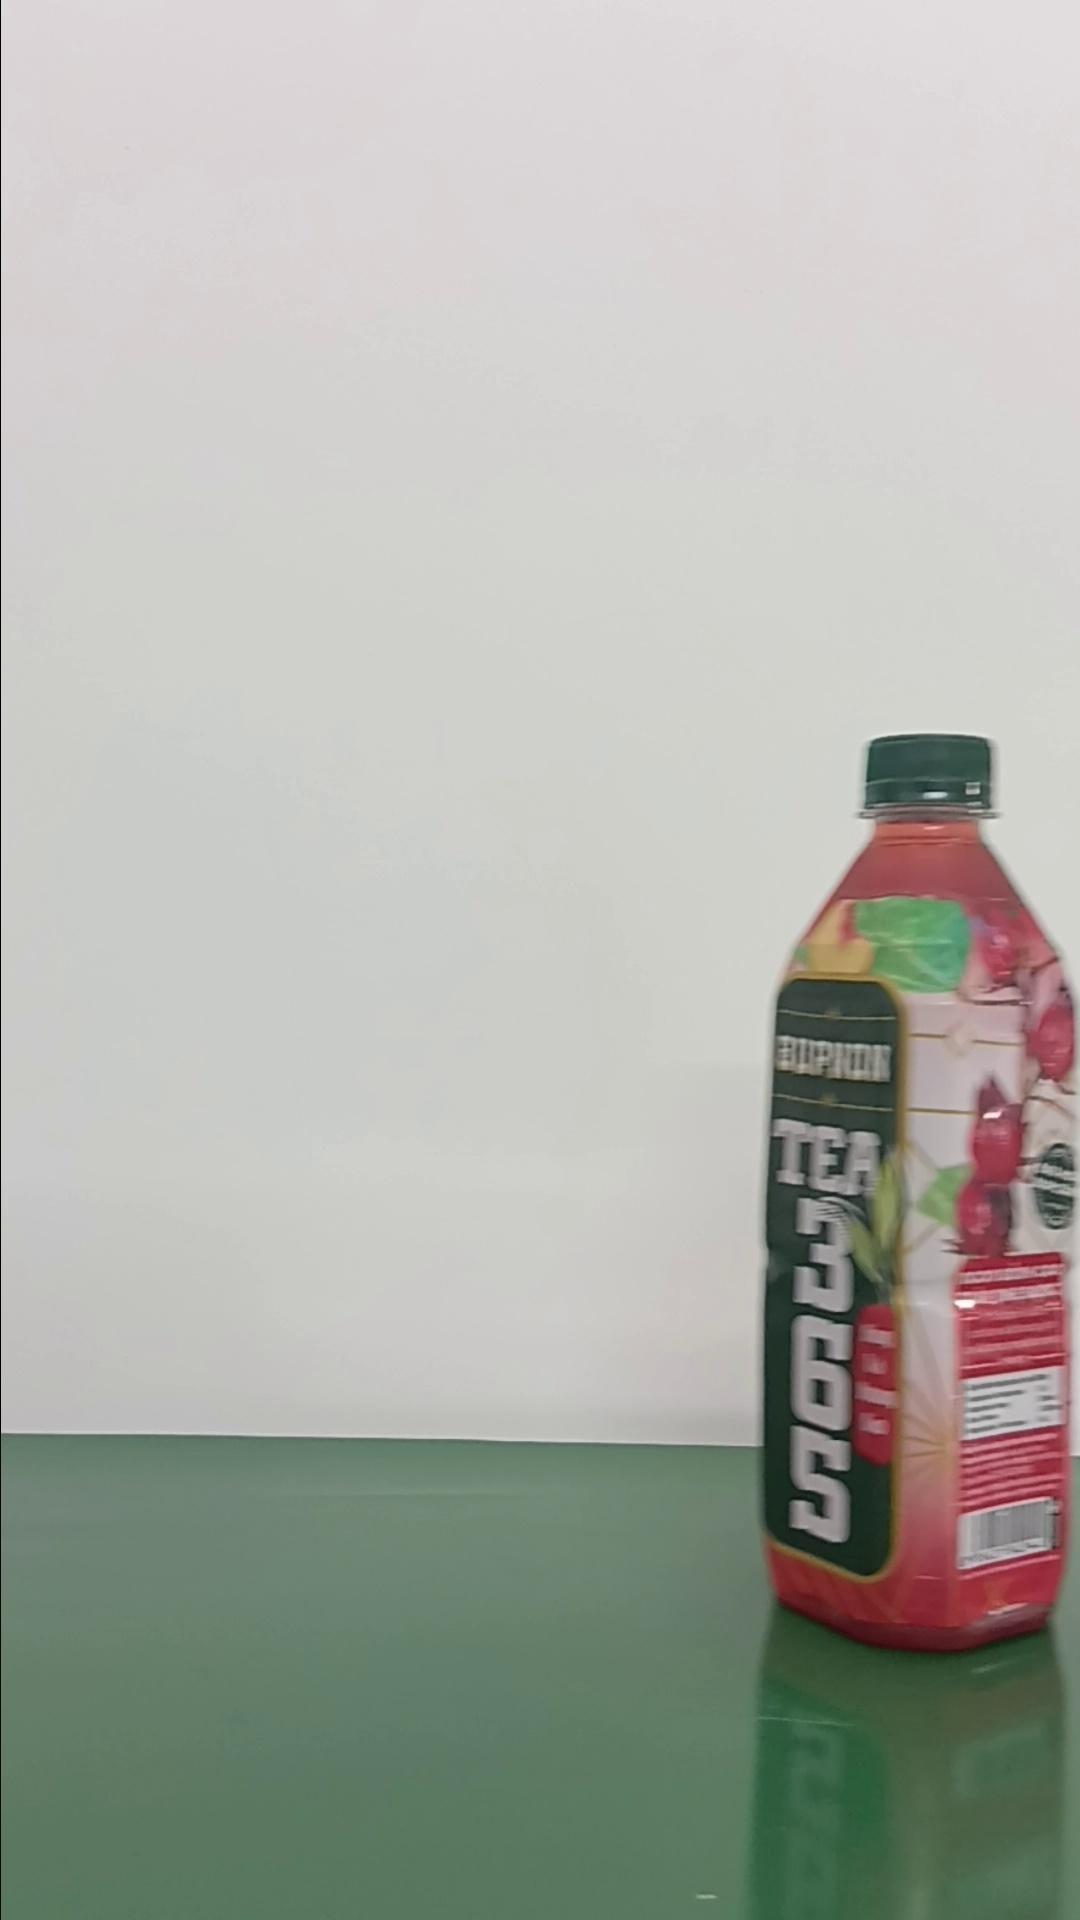khong loi: (756, 729, 1075, 1654)
